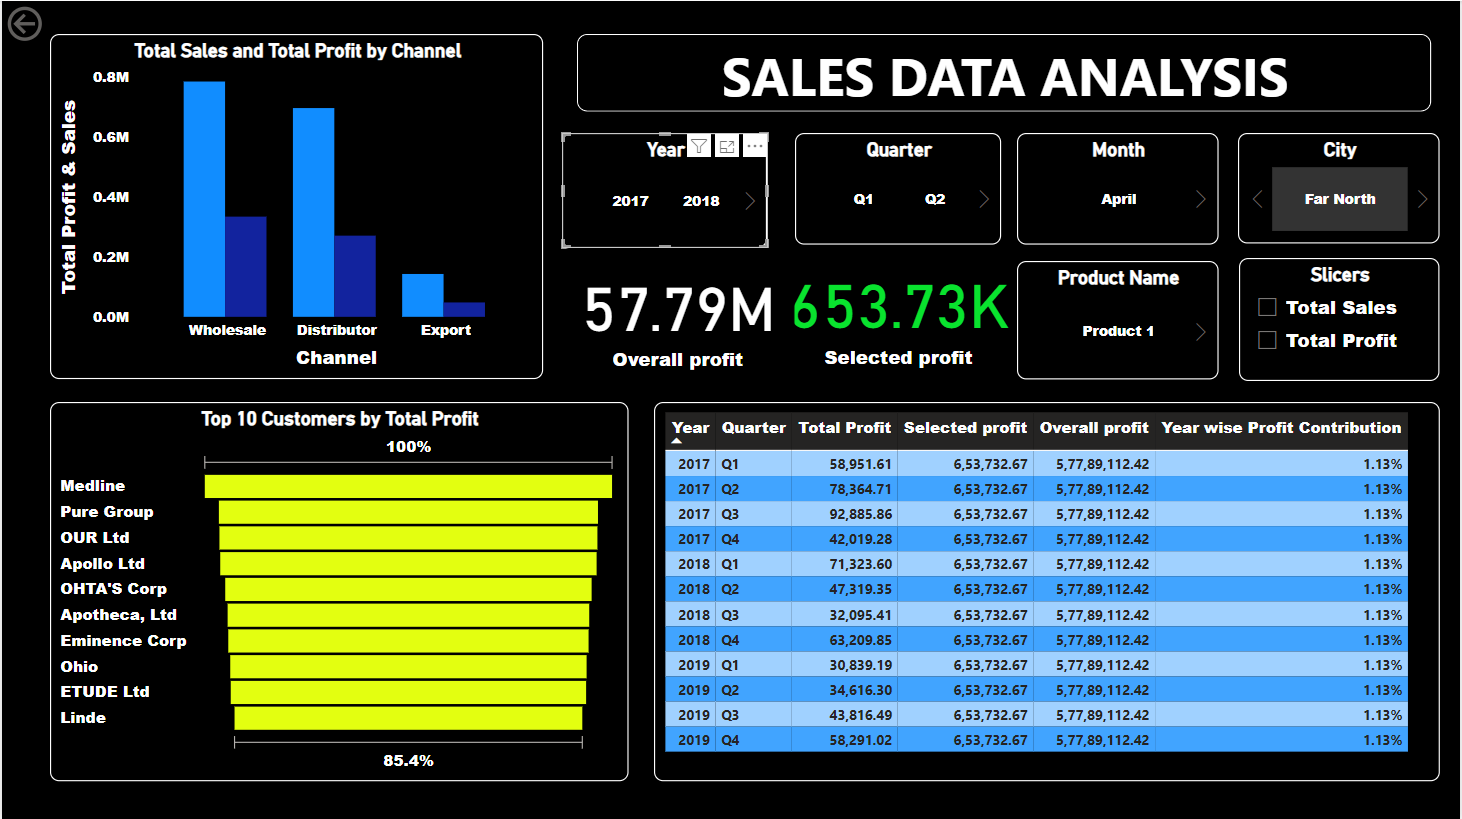

Layout of this report page (visuals, bound fields, positions):
{"tool":"powerbi","page":{"name":"Page 1","canvas":[1280,720],"ordinal":0},"visuals":[{"type":"clusteredColumnChart","fields":{"Category":["orders.Channel"],"Y":["measures table.Total Sales","measures table.Total Profit"]},"box":[42.5,29.2,433.3,303.3],"z":0},{"type":"funnel","title":"Top 10 Customers by Total  Profit","fields":{"Category":["sales top_10_customers.Customer Names"],"Y":["Sum(sales top_10_customers.Total Profit)"]},"box":[42.5,351.7,507.5,303.3],"z":1},{"type":"actionButton","box":[0,0,100,40],"z":3},{"type":"slicer","title":"Slicers","fields":{"Values":["Slicers.Slicers"]},"box":[1085.8,225.8,175.8,107.5],"z":4},{"type":"slicer","title":"Year","fields":{"Values":["DateTable.Year"]},"box":[505,127.5,180.8,76.7],"z":6},{"type":"card","fields":{"Values":["measures table.Selected profit"]},"box":[672.5,213.3,207.5,119.2],"z":7},{"type":"card","fields":{"Values":["measures table.Overall profit"]},"box":[480.8,213.3,205,119.2],"z":8},{"type":"tableEx","fields":{"Values":["DateTable.Year","DateTable.Quarter","measures table.Total Profit","measures table.Selected profit","measures table.Overall profit","measures table.Yearwise Profit Contribution"]},"box":[572.5,351.7,690,303.3],"z":9},{"type":"slicer","title":"Month","fields":{"Values":["DateTable.Month"]},"box":[890.8,115.8,176.7,100.8],"z":10},{"type":"slicer","title":"Quarter","fields":{"Values":["DateTable.Quarter"]},"box":[696.7,115.8,180.8,100.8],"z":11},{"type":"slicer","title":"City","fields":{"Values":["regions.City"]},"box":[1085.8,115.8,176.7,100.8],"z":12},{"type":"slicer","title":"Product Name","fields":{"Values":["products.Product Name"]},"box":[890.8,228.3,176.7,104.2],"z":13},{"type":"textbox","title":"SALES  DATA ANALYSIS","box":[505,29.2,750,67.5],"z":14}]}

Visuals, with their boxes in screenshot pixels (x1, y1, x2, y2), scaled from the page's 1280x720 canvas onto the 1462x819 screenshot:
clusteredColumnChart - orders.Channel x measures table.Total Sales: x1=49 y1=33 x2=543 y2=378
"Top 10 Customers by Total  Profit" funnel: x1=49 y1=400 x2=628 y2=745
actionButton: x1=0 y1=0 x2=114 y2=46
"Slicers" slicer: x1=1240 y1=257 x2=1441 y2=379
"Year" slicer: x1=577 y1=145 x2=783 y2=232
card - measures table.Selected profit: x1=768 y1=243 x2=1005 y2=378
card - measures table.Overall profit: x1=549 y1=243 x2=783 y2=378
tableEx - DateTable.Year x DateTable.Quarter: x1=654 y1=400 x2=1442 y2=745
"Month" slicer: x1=1017 y1=132 x2=1219 y2=246
"Quarter" slicer: x1=796 y1=132 x2=1002 y2=246
"City" slicer: x1=1240 y1=132 x2=1442 y2=246
"Product Name" slicer: x1=1017 y1=260 x2=1219 y2=378
"SALES  DATA ANALYSIS" textbox: x1=577 y1=33 x2=1433 y2=110
